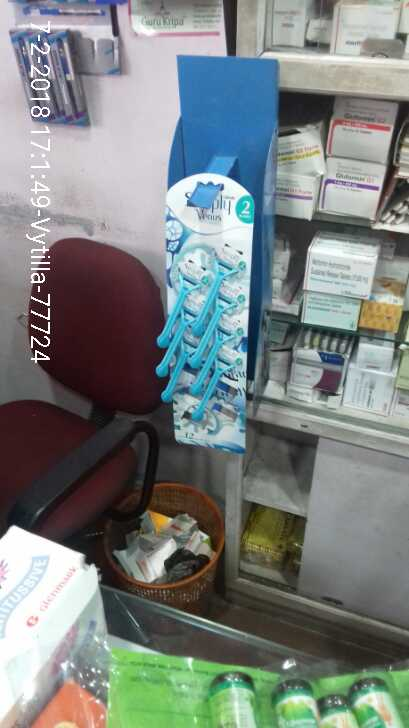reject: (264, 390, 324, 442)
